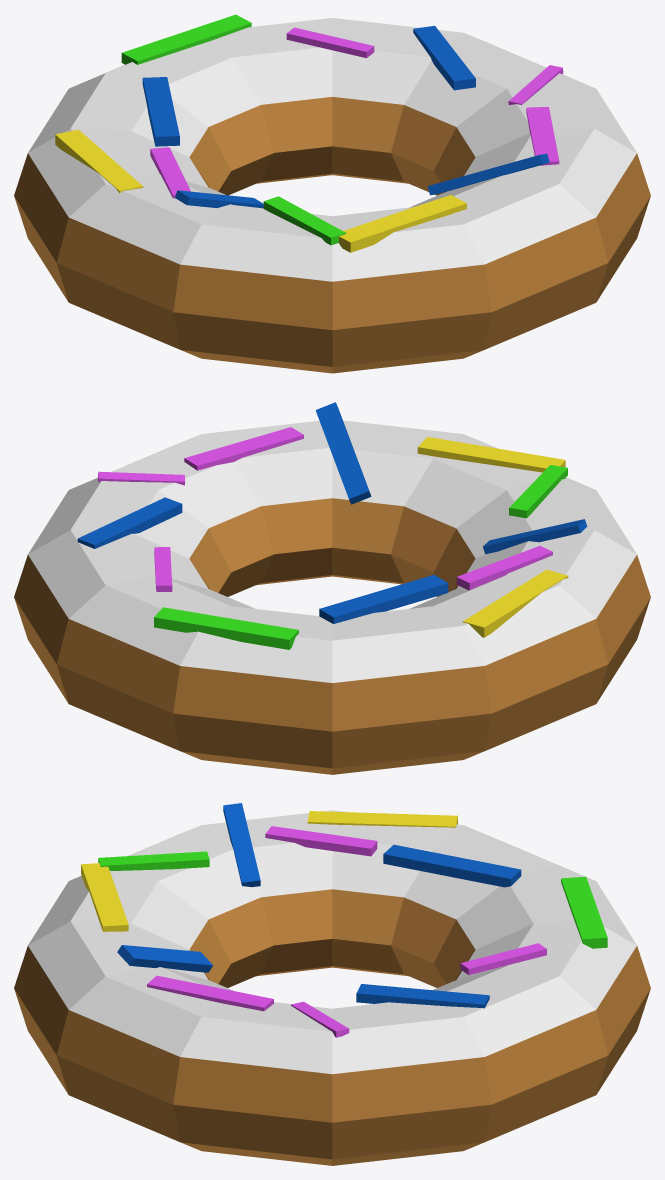
File: Donut.fbx
3 renders of one model, top to bottom at view 1: azimuth 30°, elevation 25°; view 2: azimuth 150°, elevation 25°; view 3: azimuth 270°, elevation 25°, orthographic.
Visible parts, largest first — view 1: Donut; view 2: Donut; view 3: Donut.
Boxes of the visible parts, <box> form: Donut: <box>14,14,650,373</box>; Donut: <box>14,402,650,774</box>; Donut: <box>14,803,650,1165</box>.
Size of the model in its own units: 25.29 by 7.02 by 25.29.
